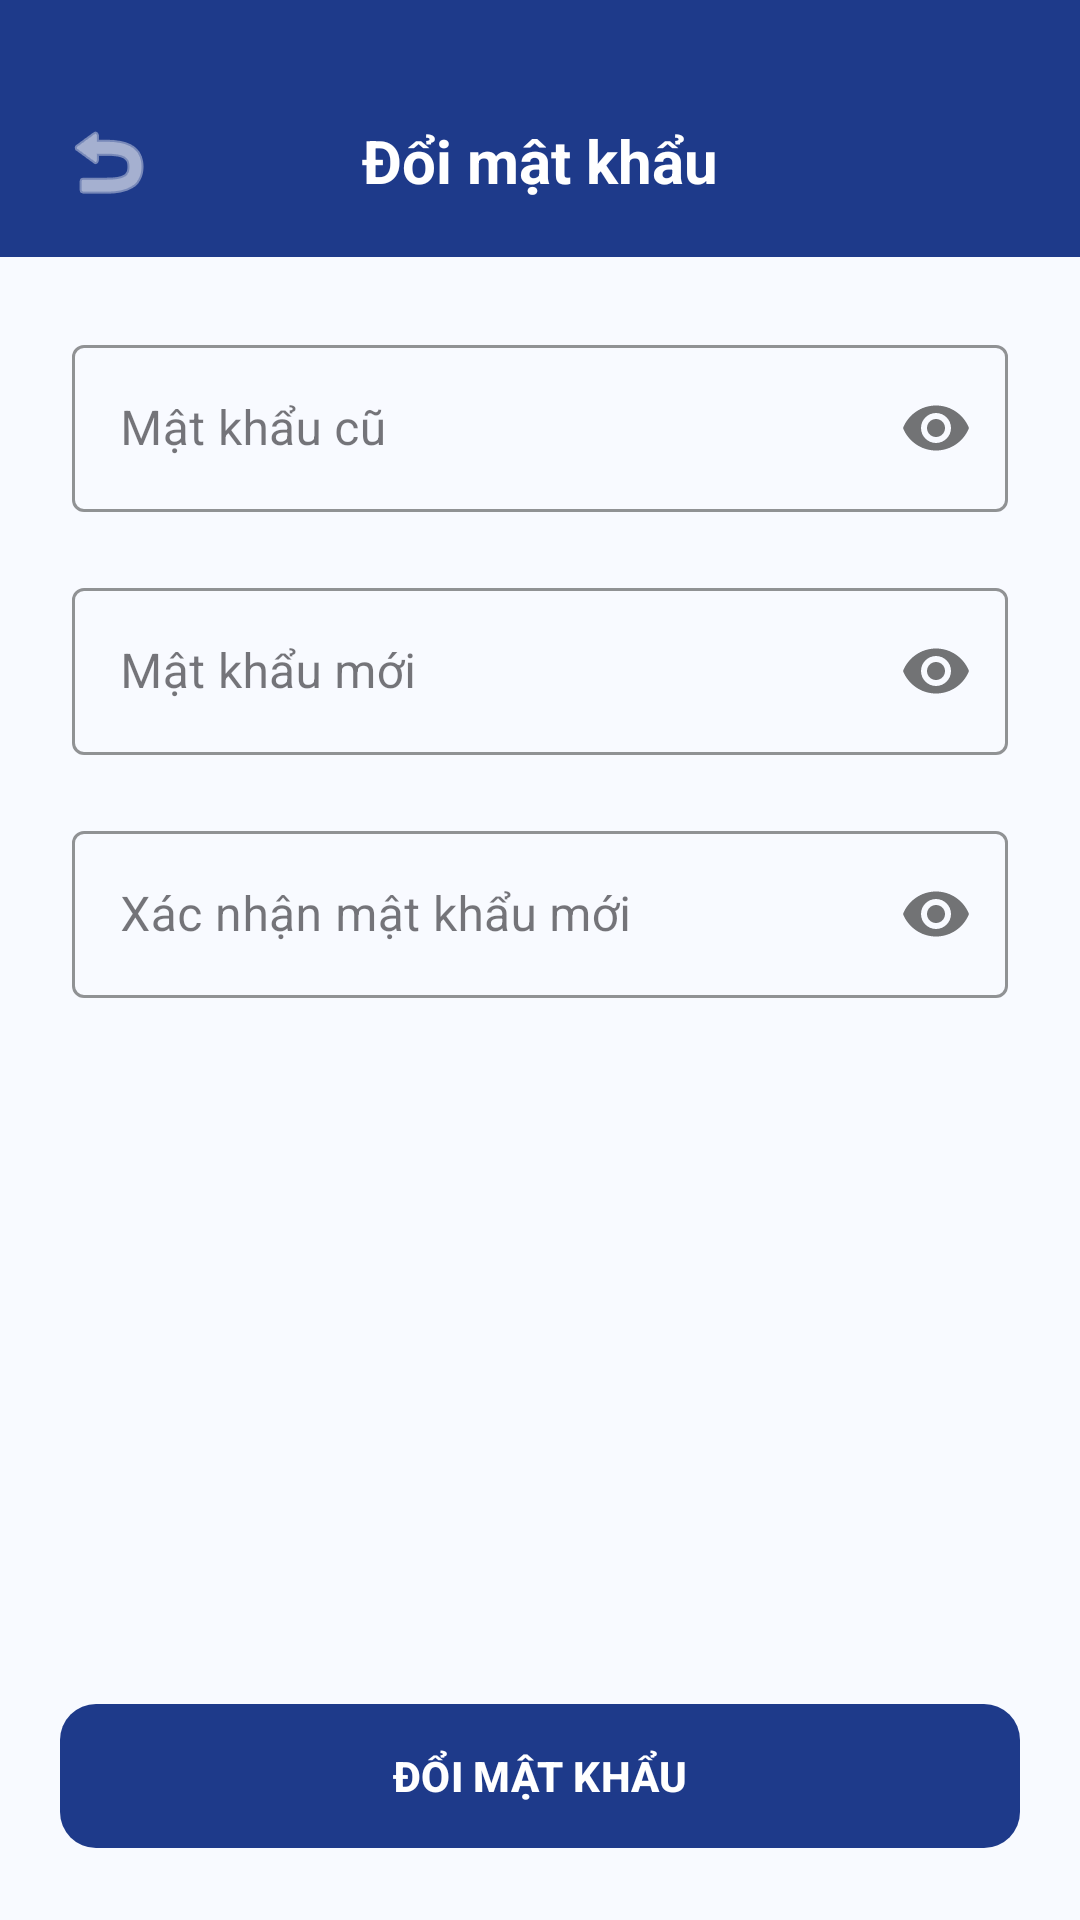

Where icons sit on this 1080 × 1920 app screen, as (x1, y1, x2, y2):
revert: (75, 131, 144, 194)
